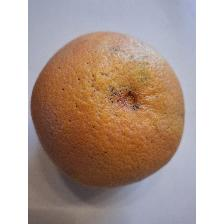Orange: (28, 28, 188, 190)
